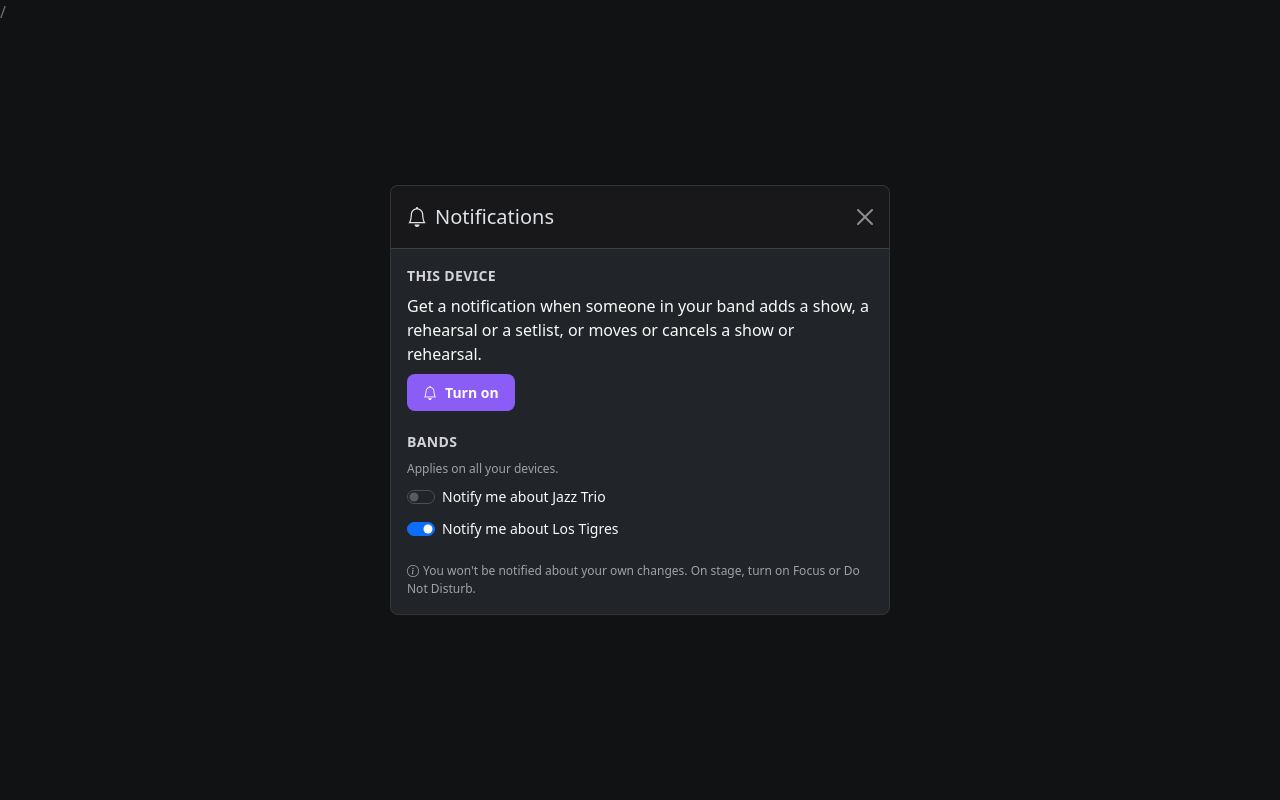
Test: NotificationSettingsModal › a refused prompt shows the blocked state
Click the button "Turn on" at point(461, 392), box 407,374 -> 515,411
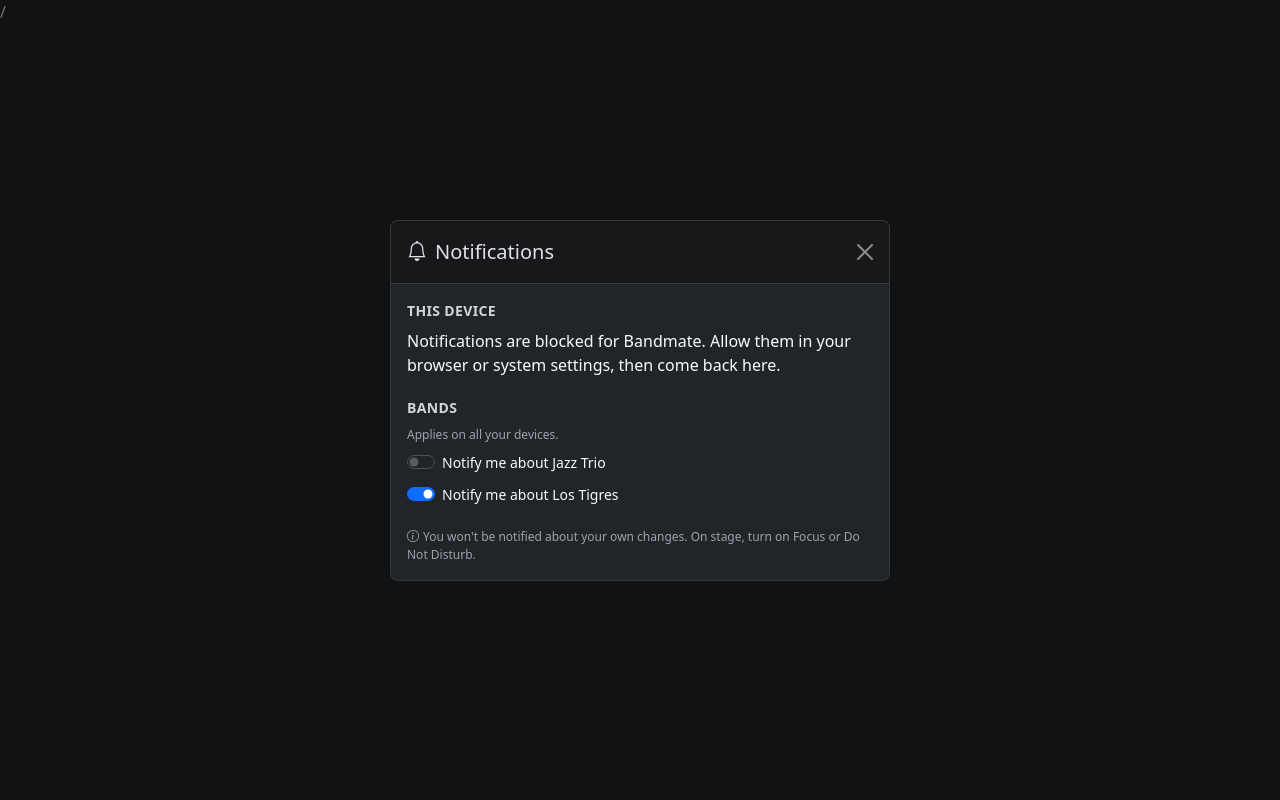
Check: the text "Notifications are blocked" is shown, box 407,330 -> 851,376
